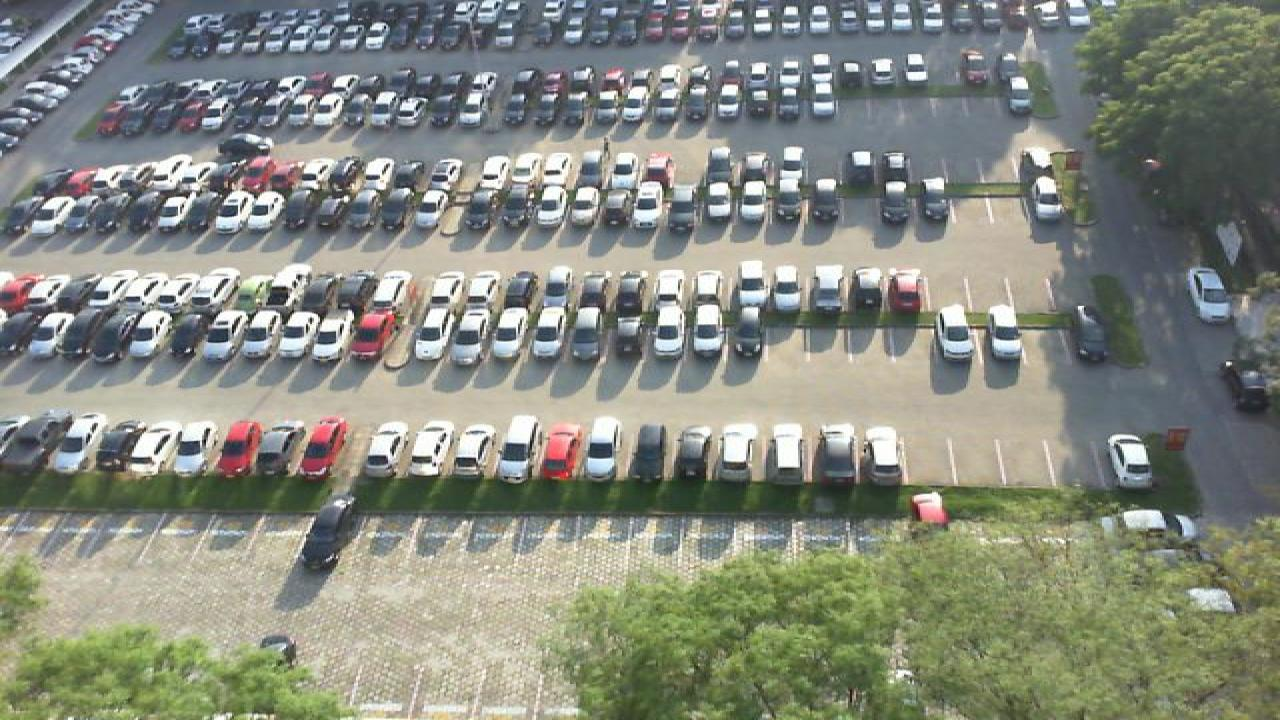Car: (296, 493, 360, 568), (36, 410, 104, 474), (1098, 507, 1198, 548), (0, 410, 60, 472), (294, 416, 352, 477), (1104, 431, 1158, 490), (252, 420, 308, 476), (212, 418, 264, 478), (498, 413, 542, 483), (404, 420, 456, 479), (122, 420, 178, 474), (84, 307, 136, 365), (360, 420, 408, 479), (584, 415, 624, 483), (1186, 266, 1232, 325), (88, 418, 138, 472), (120, 308, 170, 362), (450, 422, 496, 480), (862, 424, 904, 487), (934, 302, 976, 364), (54, 310, 104, 362), (170, 420, 218, 474), (200, 308, 248, 362), (22, 306, 70, 359), (412, 306, 456, 362), (348, 309, 396, 360), (814, 424, 854, 485), (236, 307, 282, 360), (450, 306, 492, 364), (768, 424, 808, 484), (674, 424, 714, 484), (540, 422, 582, 479), (308, 309, 354, 361), (162, 310, 208, 362), (718, 425, 758, 484), (630, 422, 668, 484), (276, 308, 320, 361), (566, 306, 608, 361), (528, 306, 568, 363), (986, 303, 1024, 362), (488, 308, 528, 364), (1072, 304, 1110, 362), (728, 300, 766, 358), (1024, 174, 1068, 224), (650, 305, 690, 359), (38, 190, 86, 235), (196, 266, 240, 312), (172, 191, 218, 235), (86, 268, 134, 310), (688, 306, 726, 359), (610, 308, 648, 360), (734, 259, 770, 313), (326, 270, 370, 314), (160, 269, 204, 313), (124, 268, 168, 312), (140, 192, 184, 236), (74, 191, 118, 235), (578, 264, 616, 314), (364, 270, 408, 313), (310, 187, 352, 232), (424, 269, 466, 313), (54, 270, 98, 312), (108, 192, 150, 236), (884, 266, 924, 312), (460, 187, 500, 233), (294, 266, 332, 314), (210, 190, 252, 233), (8, 191, 50, 234), (908, 489, 952, 530), (422, 188, 462, 233), (876, 178, 914, 225), (498, 184, 536, 231), (22, 271, 64, 313), (924, 175, 960, 224), (702, 178, 738, 227), (464, 268, 504, 312), (242, 189, 282, 233), (812, 262, 846, 313), (632, 180, 666, 231), (168, 153, 212, 192), (536, 179, 568, 232), (236, 274, 278, 314), (376, 189, 416, 231), (616, 268, 654, 312), (504, 268, 542, 312), (344, 188, 382, 232), (768, 175, 802, 224), (542, 266, 578, 312), (280, 189, 318, 232), (664, 185, 700, 230), (202, 156, 244, 194), (134, 156, 176, 194), (848, 266, 884, 310), (656, 268, 692, 312), (0, 310, 34, 356), (566, 184, 600, 230), (694, 269, 728, 314), (388, 155, 426, 195), (236, 154, 276, 192), (598, 185, 632, 229), (572, 145, 606, 189), (772, 266, 804, 312), (102, 161, 144, 196), (704, 144, 738, 187), (358, 156, 396, 194), (808, 179, 840, 224), (738, 180, 770, 225), (778, 144, 810, 187), (328, 156, 364, 194), (296, 156, 332, 194), (844, 150, 878, 190), (476, 154, 512, 191), (0, 271, 30, 315), (266, 156, 302, 192), (642, 151, 676, 189), (426, 158, 464, 192), (882, 149, 914, 189), (34, 169, 70, 204), (68, 167, 106, 199), (540, 152, 572, 189), (744, 148, 774, 187), (610, 151, 640, 190), (510, 151, 540, 190)
